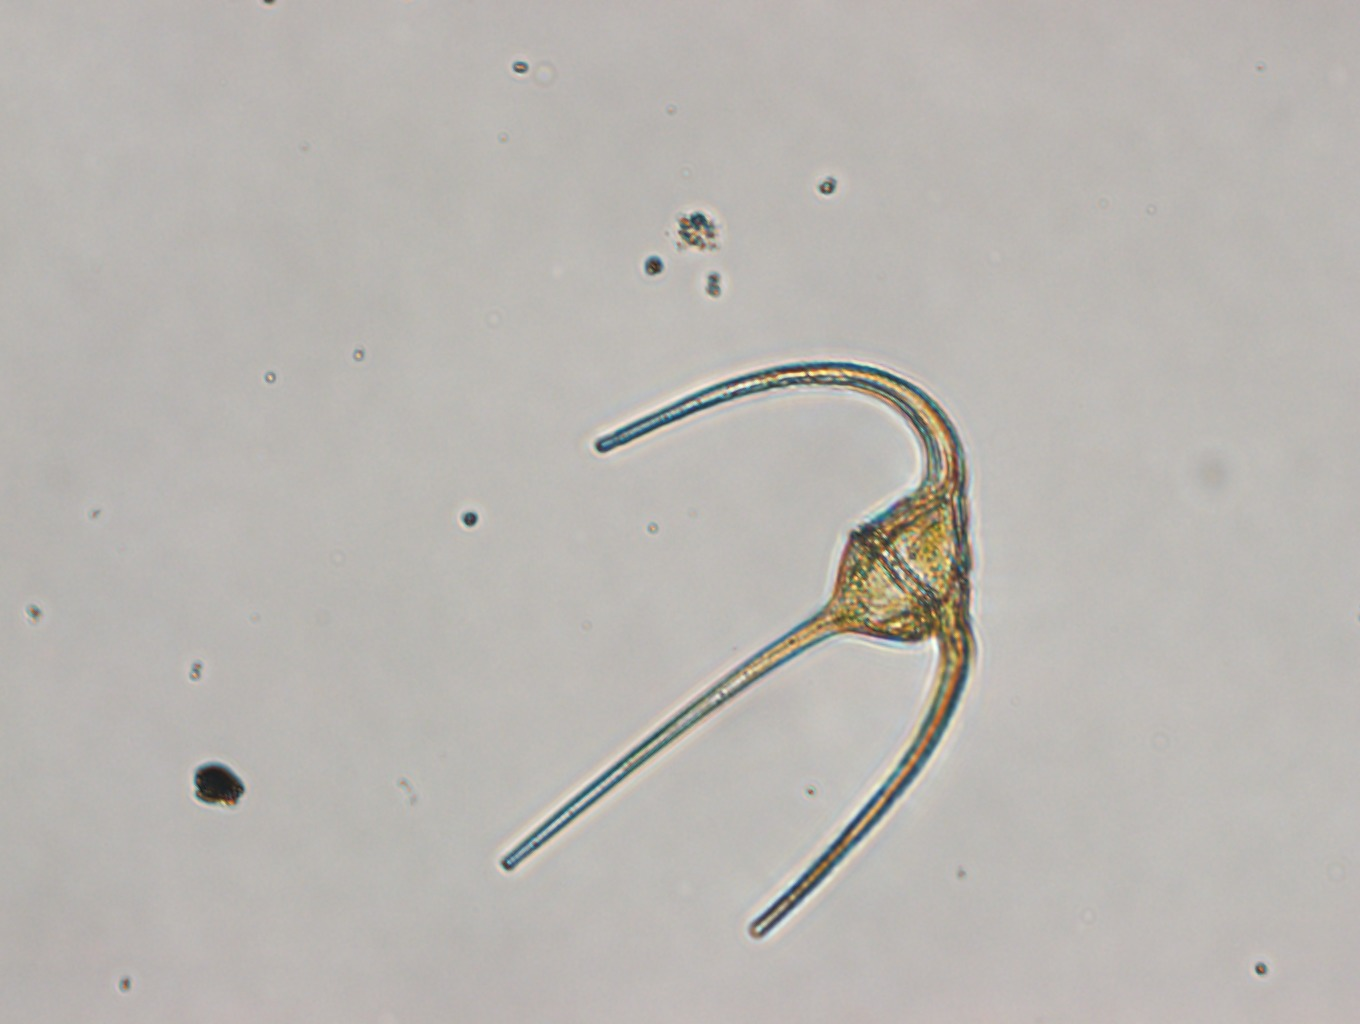ceratium trichoceros: (498, 359, 977, 939)
